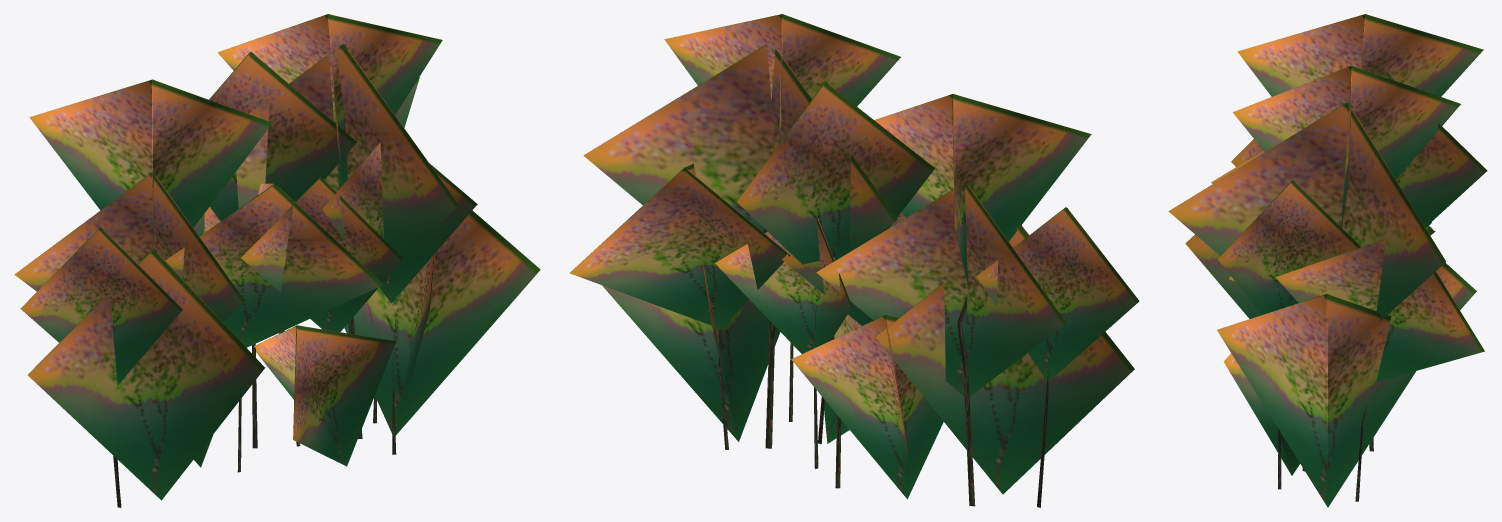
The model's file is xsc_sw_guanmu26.FBX.
The picture shows the model from 3 angles, left to right: view 1: azimuth 30°, elevation 25°; view 2: azimuth 150°, elevation 25°; view 3: azimuth 270°, elevation 25°; orthographic projection. The views are drawn at different scales.
Visible parts, largest first — view 1: xsc_sw_guanmu26_01A, xsc_sw_guanmu26_02B; view 2: xsc_sw_guanmu26_01A, xsc_sw_guanmu26_02B; view 3: xsc_sw_guanmu26_01A, xsc_sw_guanmu26_02B.
Part boxes in pixels (x1,y1,x2,y2): xsc_sw_guanmu26_01A: (14, 14, 540, 500); xsc_sw_guanmu26_02B: (113, 301, 396, 507); xsc_sw_guanmu26_01A: (569, 14, 1139, 499); xsc_sw_guanmu26_02B: (718, 228, 1048, 507); xsc_sw_guanmu26_01A: (1168, 14, 1487, 507); xsc_sw_guanmu26_02B: (1278, 404, 1373, 501).
Size of the model in its own units: 549 by 428 by 298.
2 materials, 2 textured.
